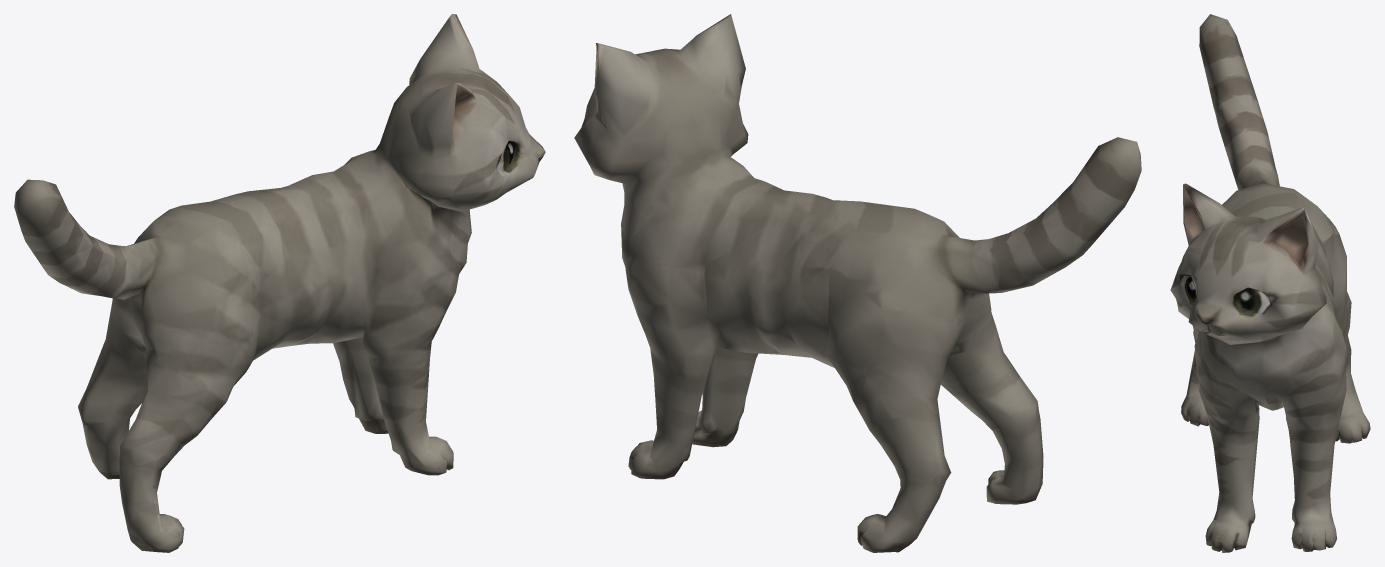
File: APOTHECAT-lo.glb
The picture shows the model from 3 angles, left to right: view 1: azimuth 30°, elevation 25°; view 2: azimuth 150°, elevation 25°; view 3: azimuth 270°, elevation 25°; orthographic projection. The views are drawn at different scales.
Visible parts, largest first — view 1: tripo_node_55590264-1c04-4a7c-a5d4-2e280c093eea; view 2: tripo_node_55590264-1c04-4a7c-a5d4-2e280c093eea; view 3: tripo_node_55590264-1c04-4a7c-a5d4-2e280c093eea.
Boxes of the visible parts, x1,y1,x2,y2 form: tripo_node_55590264-1c04-4a7c-a5d4-2e280c093eea: (14,14,545,552); tripo_node_55590264-1c04-4a7c-a5d4-2e280c093eea: (574,14,1141,552); tripo_node_55590264-1c04-4a7c-a5d4-2e280c093eea: (1170,14,1370,552).
Bounding box in the file's own units: 1.35 × 0.9996 × 0.4946.
Materials: 1 (1 with a texture image).
